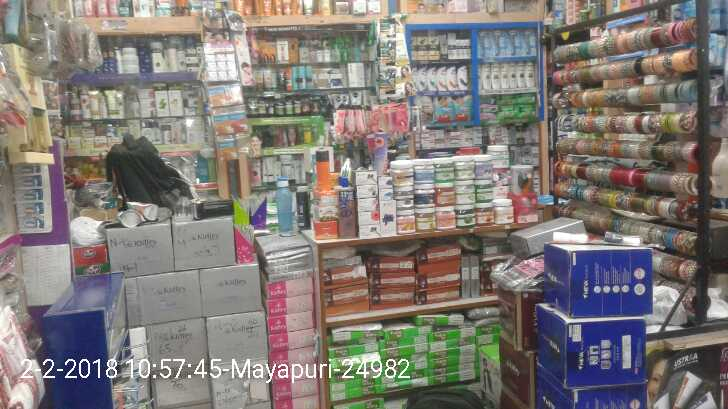gillete: (286, 67, 293, 92), (300, 67, 307, 88), (293, 67, 300, 88), (354, 38, 360, 61), (307, 67, 313, 88)
venus: (524, 30, 539, 57), (509, 30, 524, 57), (481, 33, 496, 57), (496, 30, 509, 57)
